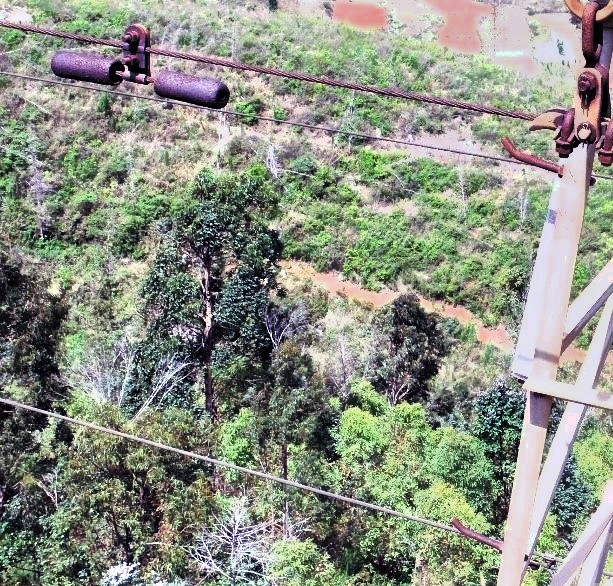Shockproof hammer: (47, 22, 233, 114)
